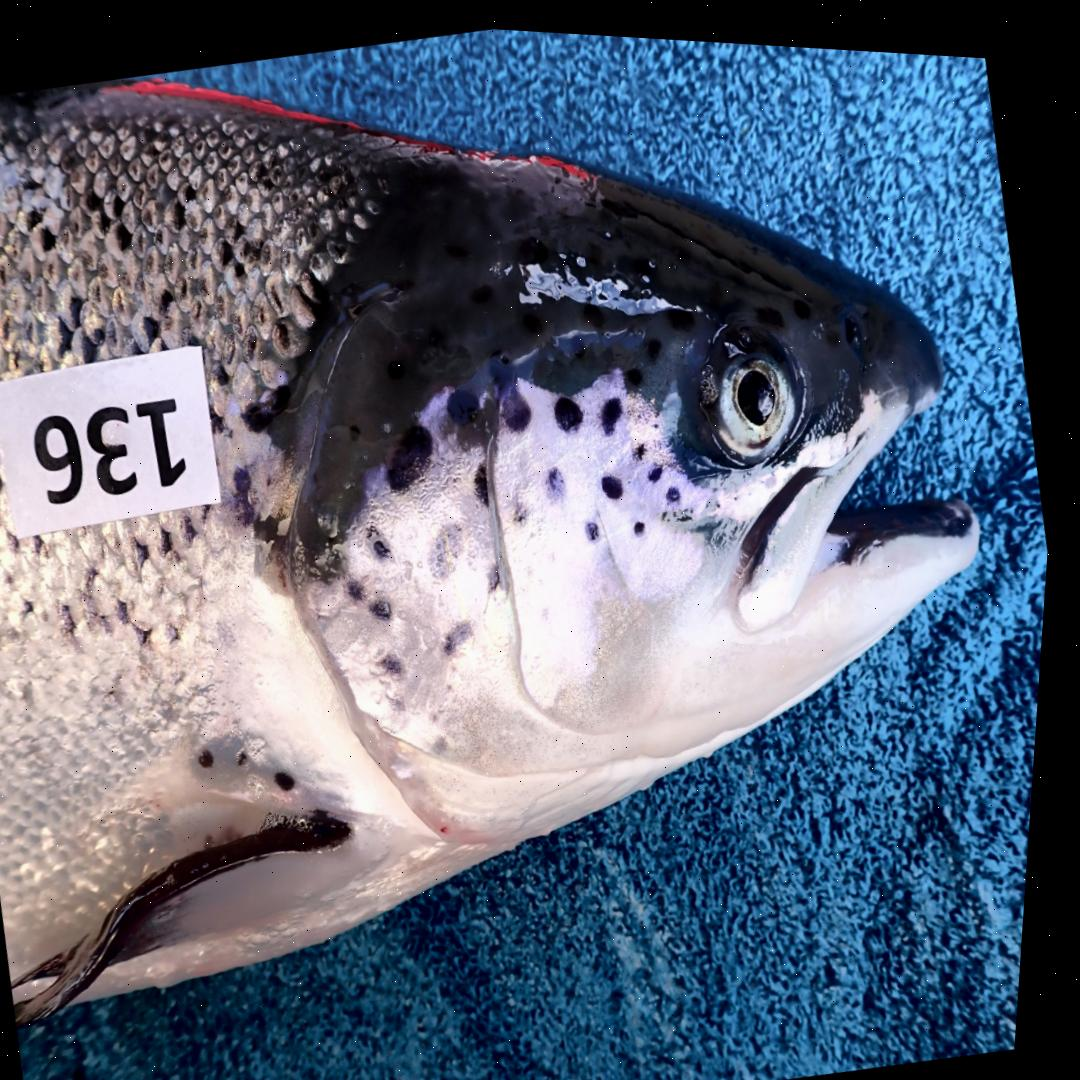spot: (392, 420, 439, 487), (435, 517, 470, 574), (505, 382, 536, 426), (451, 382, 484, 417), (558, 387, 588, 425), (451, 614, 480, 649), (605, 388, 627, 427), (373, 524, 397, 554), (551, 458, 571, 493), (480, 456, 494, 501), (606, 465, 629, 491), (376, 593, 399, 617), (389, 645, 410, 670), (353, 572, 372, 595), (519, 493, 535, 520), (651, 451, 668, 473), (590, 513, 606, 534), (493, 555, 505, 583), (395, 689, 414, 706), (441, 728, 458, 746), (670, 477, 686, 494), (638, 434, 649, 452), (640, 512, 651, 528)
